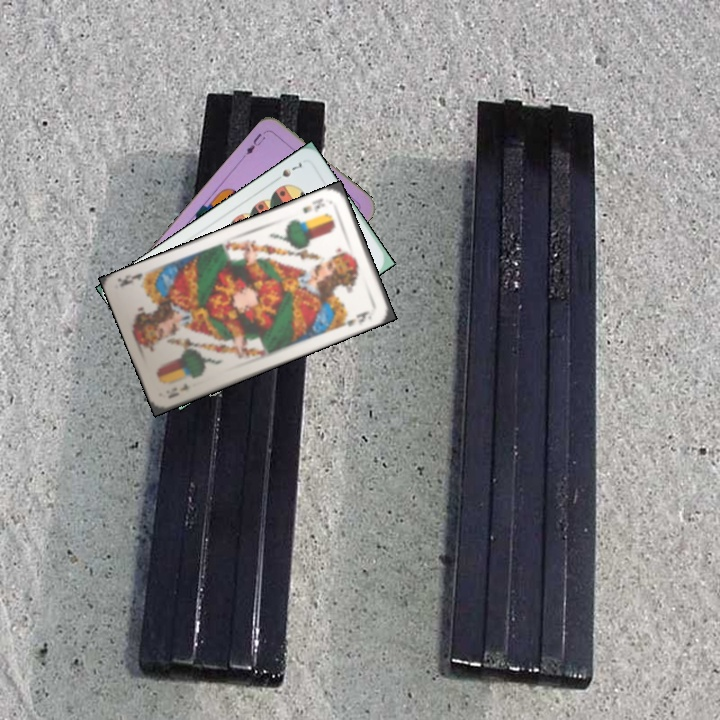EK: (298, 194, 327, 216), (164, 379, 191, 401)
EU: (240, 126, 271, 160)
S7: (270, 157, 306, 184)
